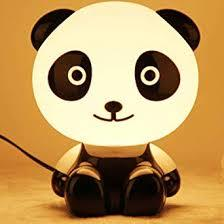KungfuPanda: (14, 2, 213, 216)
